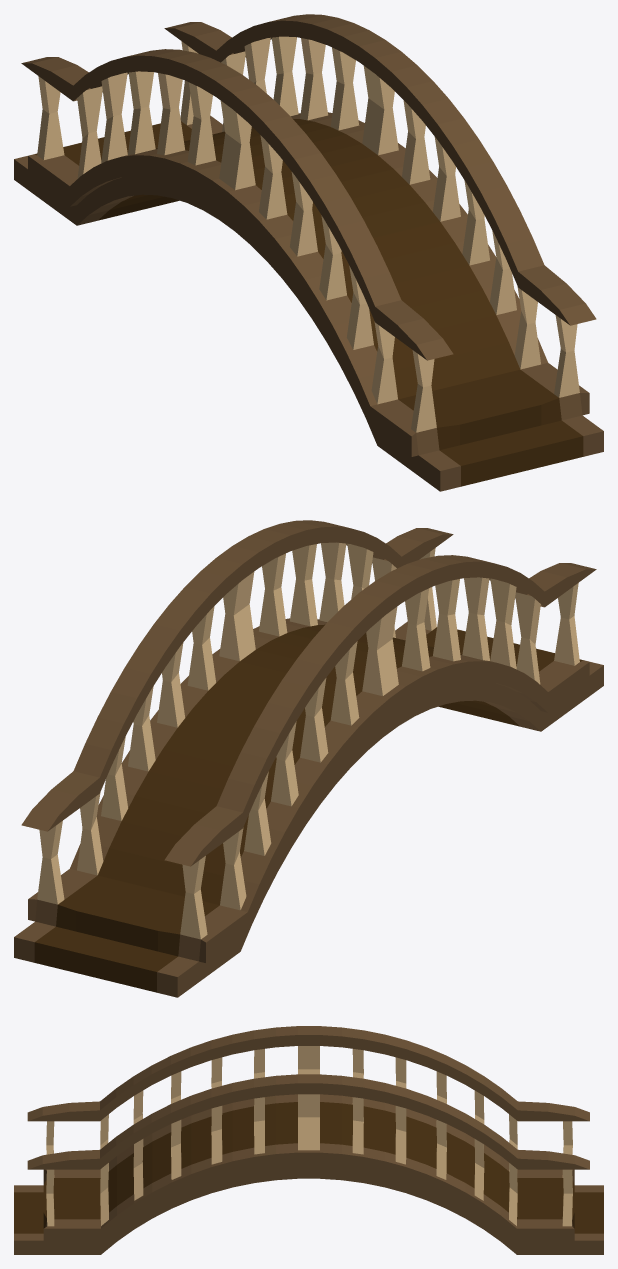
File: LargeBridge.fbx
3 views of the same model, one above another, from view 1: azimuth 30°, elevation 25°; view 2: azimuth 150°, elevation 25°; view 3: azimuth 270°, elevation 25° (orthographic). The views are drawn at different scales.
Visible parts, largest first — view 1: Plane.002, Plane.004, Plane.003; view 2: Plane.002, Plane.004, Plane.003; view 3: Plane.002, Plane.003, Plane.004.
Part boxes in pixels (left/top/right/bottom): Plane.002: left=14, top=112, right=603, bottom=491; Plane.004: left=37, top=36, right=579, bottom=432; Plane.003: left=21, top=14, right=596, bottom=360; Plane.002: left=14, top=618, right=603, bottom=997; Plane.004: left=37, top=542, right=579, bottom=939; Plane.003: left=21, top=520, right=596, bottom=866; Plane.002: left=14, top=1094, right=603, bottom=1254; Plane.003: left=27, top=1026, right=589, bottom=1169; Plane.004: left=46, top=1046, right=572, bottom=1226.
Size of the model in its own units: 11748 by 15725 by 48723.
